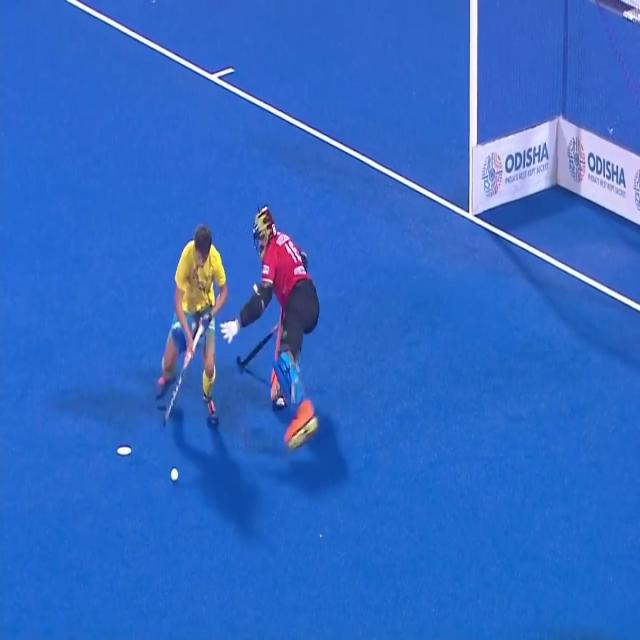ball: (165, 459, 181, 484)
